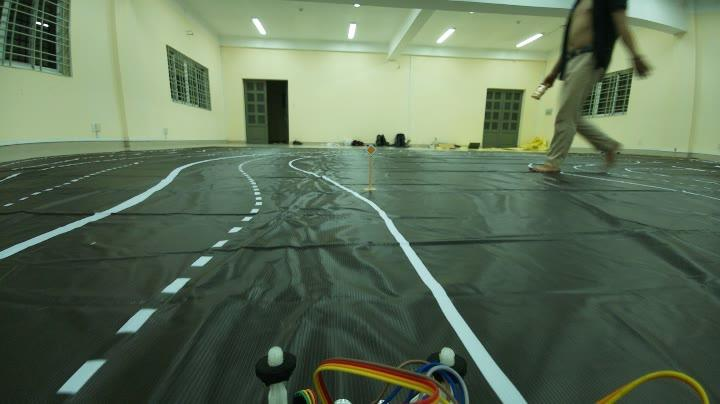priority: (364, 144, 379, 160)
